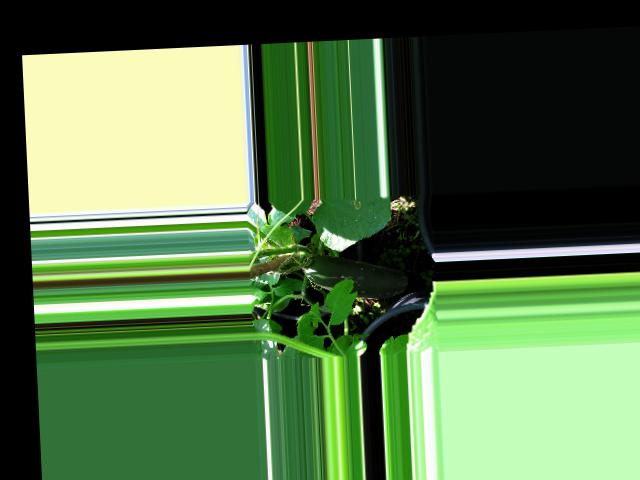cucumber: (302, 250, 408, 302)
